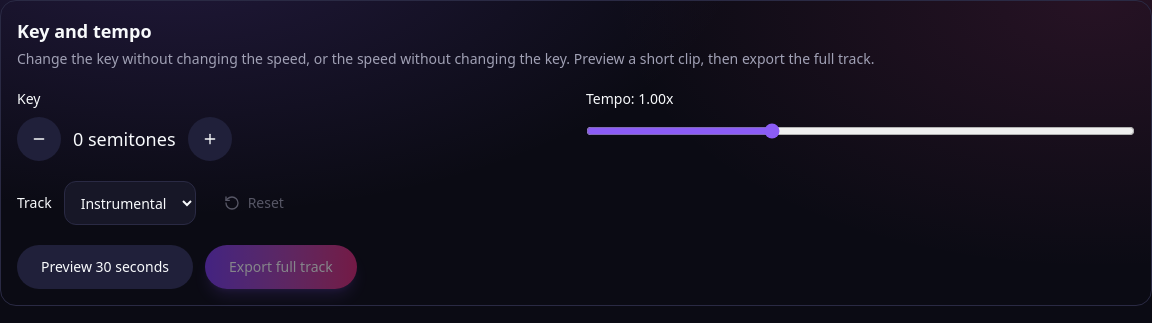
Scenario: KeyTempoPanel › only offers a full export when something changed
Expected: the button "Export full track" is disabled, 205,245 -> 357,289
Click the button named "Lower the key" at (39, 139), box 17,117 -> 61,161
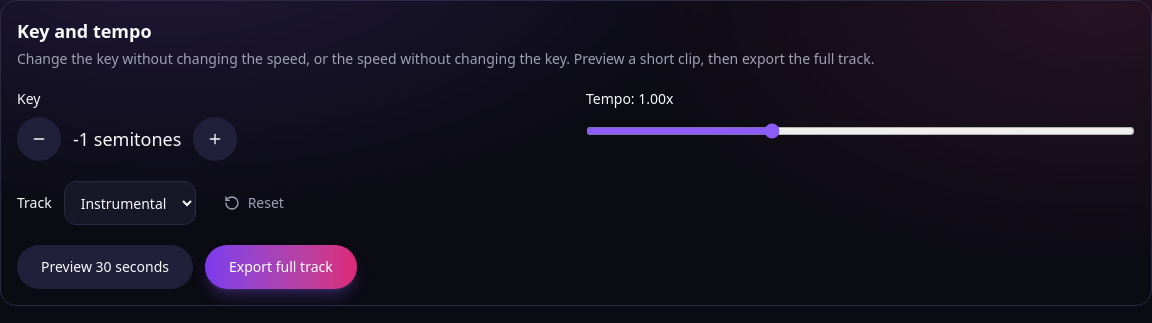
Expected: the button "Export full track" is enabled, 205,245 -> 357,289
Click the button "Reset" at (254, 203), box 208,185 -> 300,221
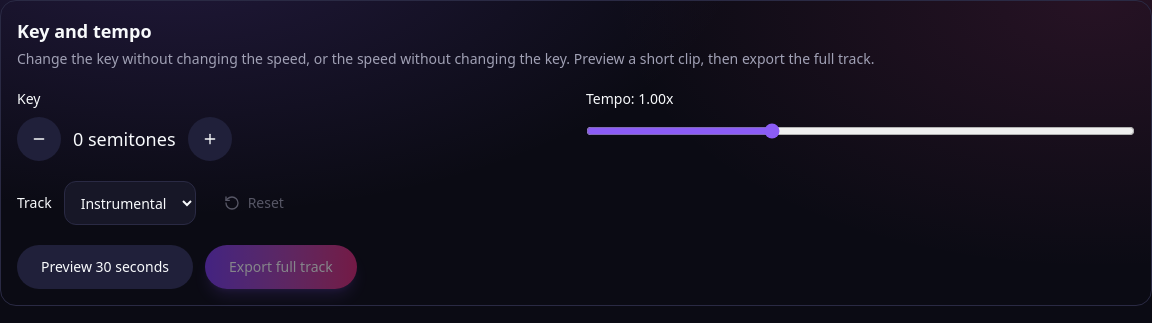
Expected: the button "Export full track" is disabled, 205,245 -> 357,289
